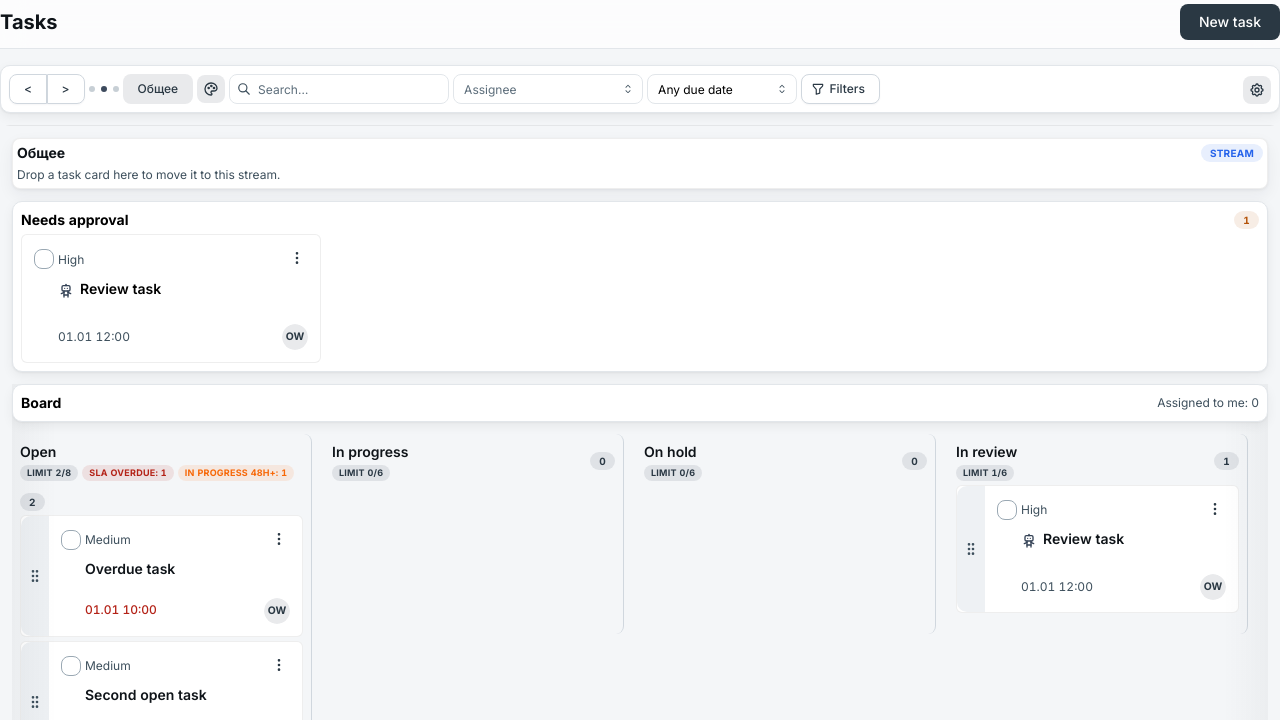
AdminTasksPage workstation behavior › create modal chrome comes from the tasks dictionary
What coordinates should you click on to do the following:
click the button "New task"
I would click on:
 (1230, 22)
Its box is [1180,4,1279,40].
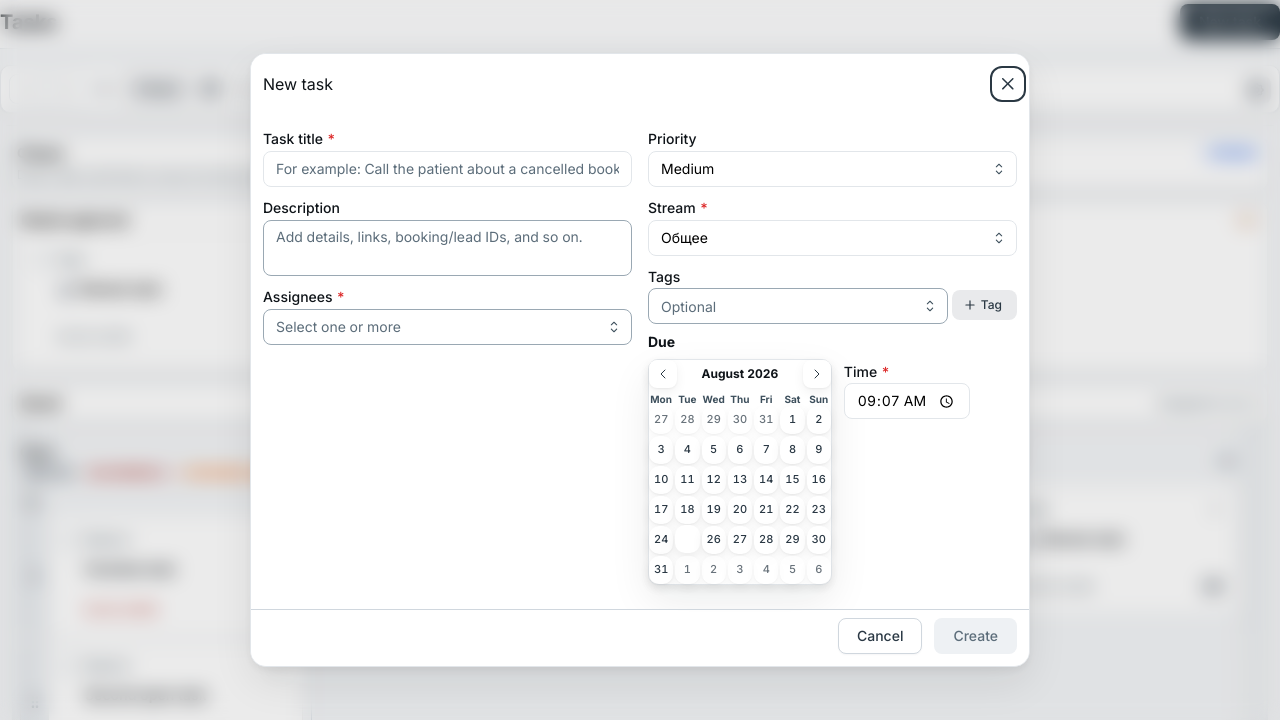
Expected: the button "Create" is shown, [934,618,1017,654]
Expected: the button "Cancel" is shown, [838,618,922,654]
